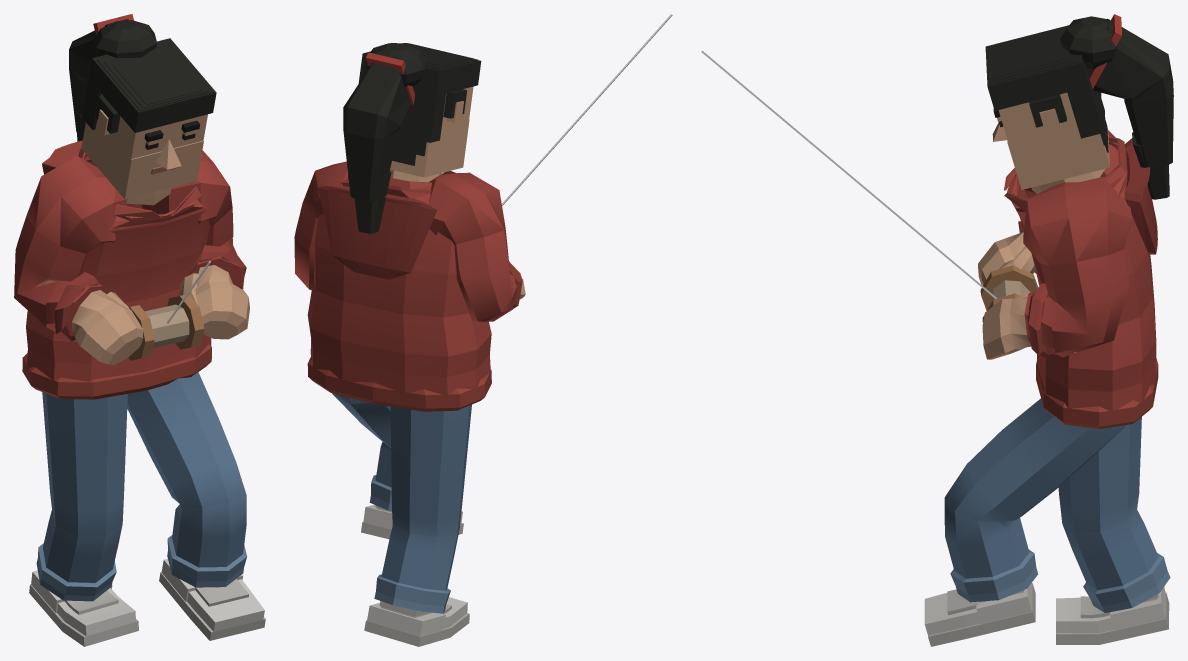
File: kite-kid-0a7d70__walk7.glb
The picture shows the model from 3 angles, left to right: view 1: azimuth 30°, elevation 25°; view 2: azimuth 150°, elevation 25°; view 3: azimuth 270°, elevation 25°; orthographic projection. The views are drawn at different scales.
Visible parts, largest first — view 1: kite-kid-0a7d70__walk7; view 2: kite-kid-0a7d70__walk7; view 3: kite-kid-0a7d70__walk7.
Boxes of the visible parts, x1=… form: kite-kid-0a7d70__walk7: x1=14, y1=14, x2=265, y2=646; kite-kid-0a7d70__walk7: x1=294, y1=14, x2=672, y2=646; kite-kid-0a7d70__walk7: x1=701, y1=14, x2=1173, y2=646.
Bounding box in the file's own units: 0.4702 × 1.22 × 0.8298.
